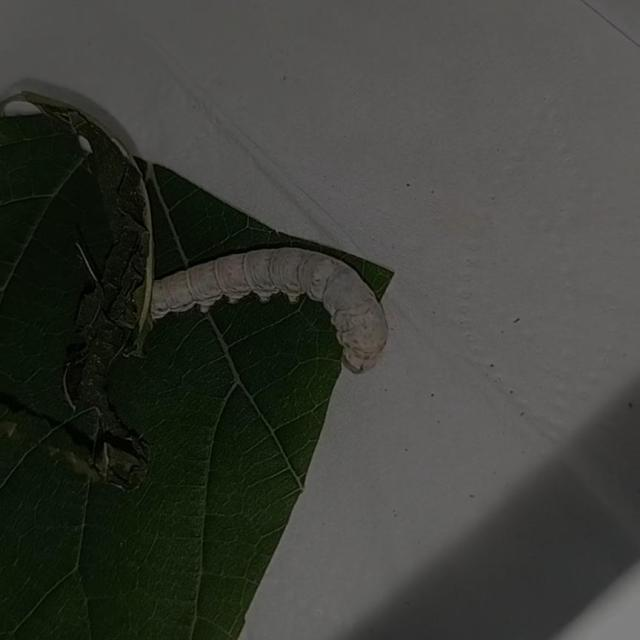Healthy: (107, 188, 430, 391)
